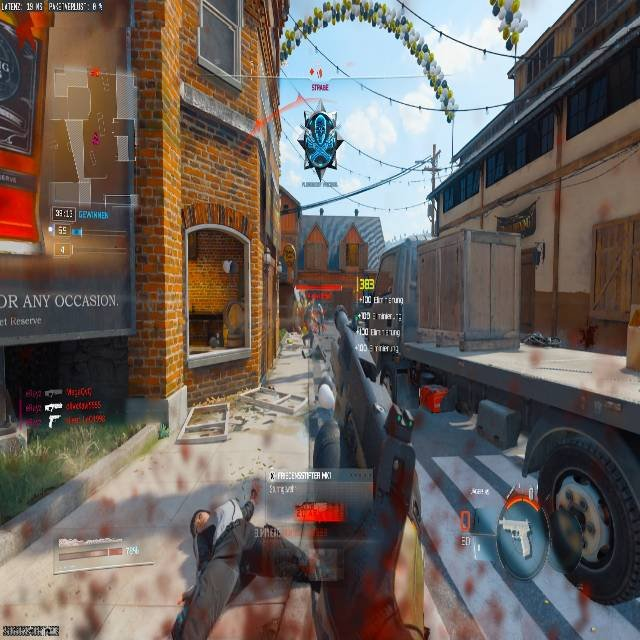player: (174, 490, 318, 637), (299, 106, 342, 179), (294, 299, 331, 359), (301, 302, 324, 350)
